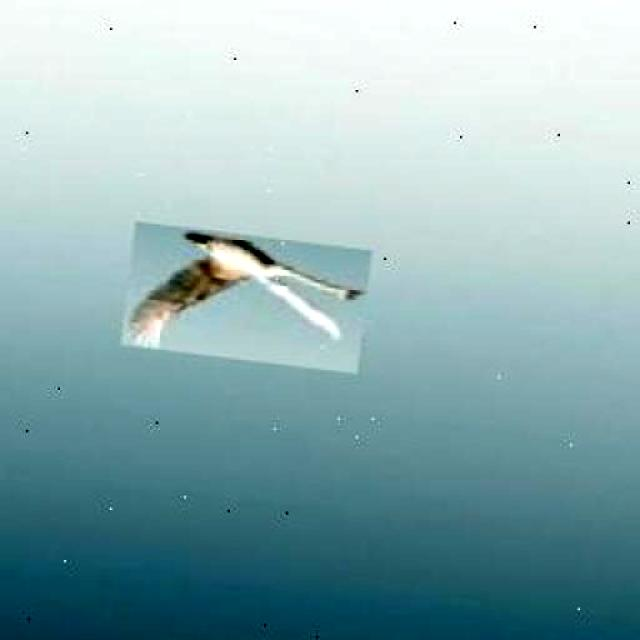airplane: (120, 221, 370, 372)
